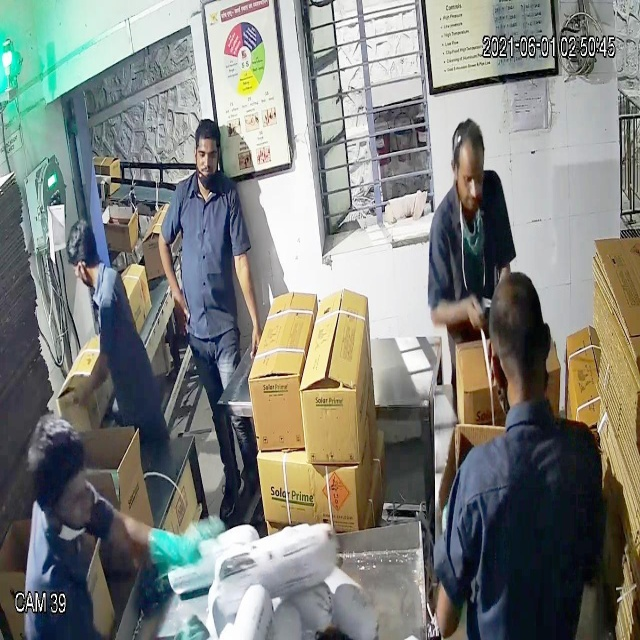Sin_gafas: (449, 154, 488, 194), (189, 144, 226, 171)
